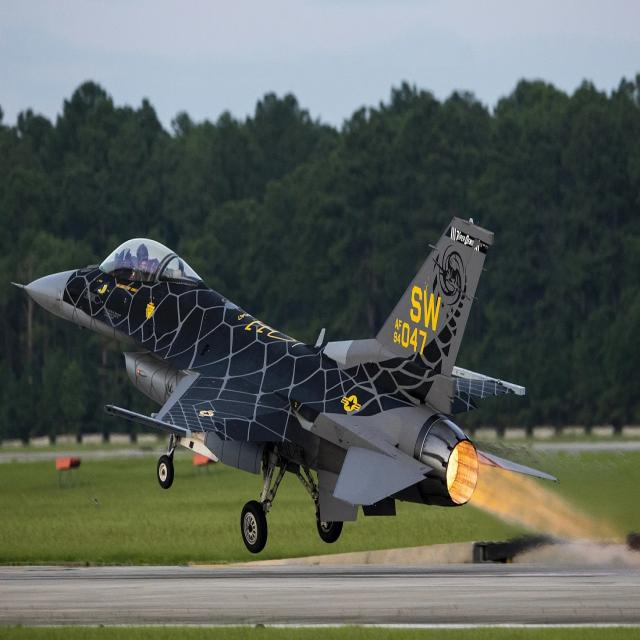MIL_Plane: (10, 216, 558, 554)
